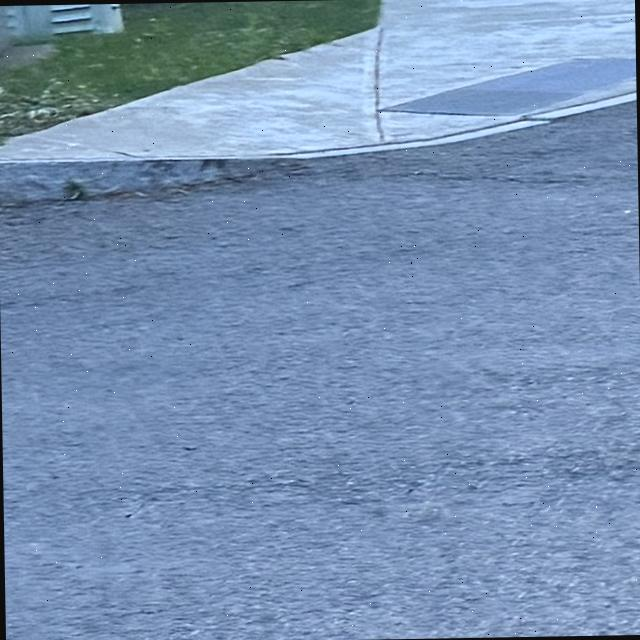curb: (245, 91, 635, 158), (0, 159, 301, 206)
